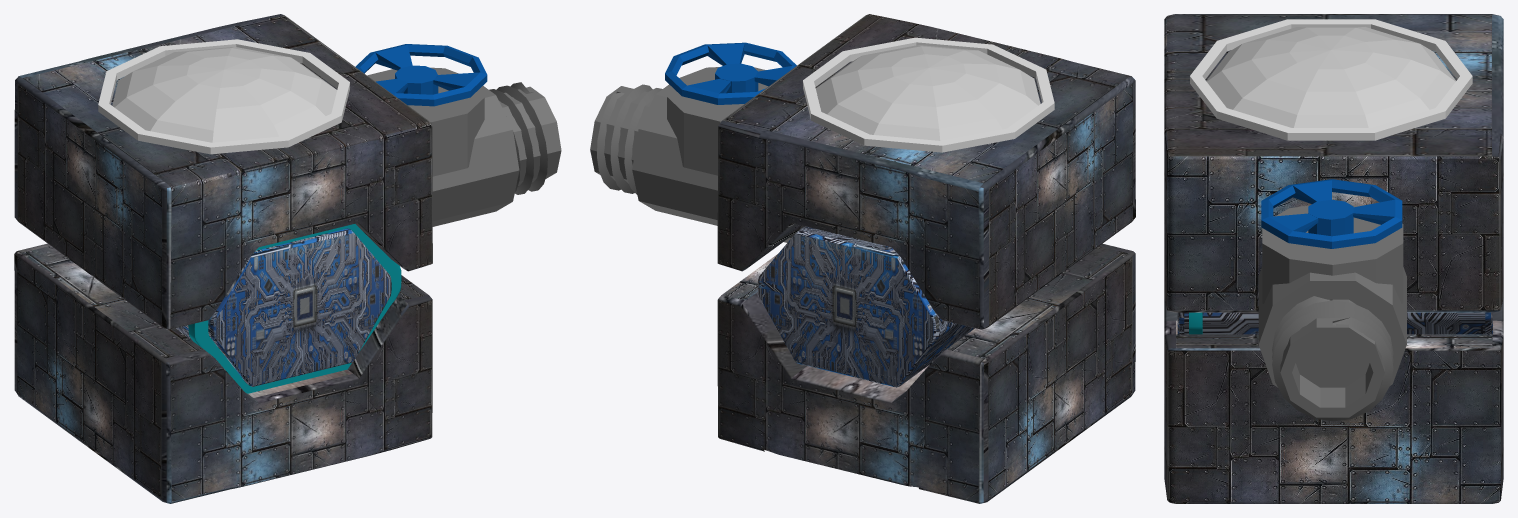
The model's file is WaterConnection2.fbx.
3 renders of one model, left to right at view 1: azimuth 30°, elevation 25°; view 2: azimuth 150°, elevation 25°; view 3: azimuth 270°, elevation 25°, orthographic. The views are drawn at different scales.
Parts seen in each view (by area): view 1: pCube17, pCube13, pCube16, polySurface17, polySurface26, polySurface15, polySurface28, pCube14; view 2: pCube17, pCube13, pCube16, polySurface17, polySurface26, polySurface15, polySurface28; view 3: pCube17, pCube13, polySurface26, polySurface17, polySurface15, polySurface28, pCube16.
Boxes of the visible parts, x1,y1,x2,y2 form: pCube17: [14, 14, 432, 329]; pCube13: [14, 243, 432, 503]; pCube16: [175, 228, 391, 386]; polySurface17: [112, 46, 337, 142]; polySurface26: [367, 67, 561, 226]; polySurface15: [98, 39, 349, 154]; polySurface28: [355, 44, 487, 106]; pCube14: [188, 224, 401, 393]; pCube17: [717, 14, 1135, 329]; pCube13: [717, 243, 1135, 503]; pCube16: [757, 226, 974, 387]; polySurface17: [815, 45, 1040, 140]; polySurface26: [590, 67, 804, 242]; polySurface15: [803, 37, 1054, 152]; polySurface28: [665, 42, 796, 104]; pCube17: [1164, 14, 1503, 312]; pCube13: [1164, 298, 1503, 503]; polySurface26: [1258, 205, 1406, 421]; polySurface17: [1206, 26, 1455, 127]; polySurface15: [1190, 19, 1472, 140]; polySurface28: [1261, 179, 1402, 248]; pCube16: [1177, 312, 1492, 334].
Size of the model in its own units: 4.18 by 3.12 by 2.5.
